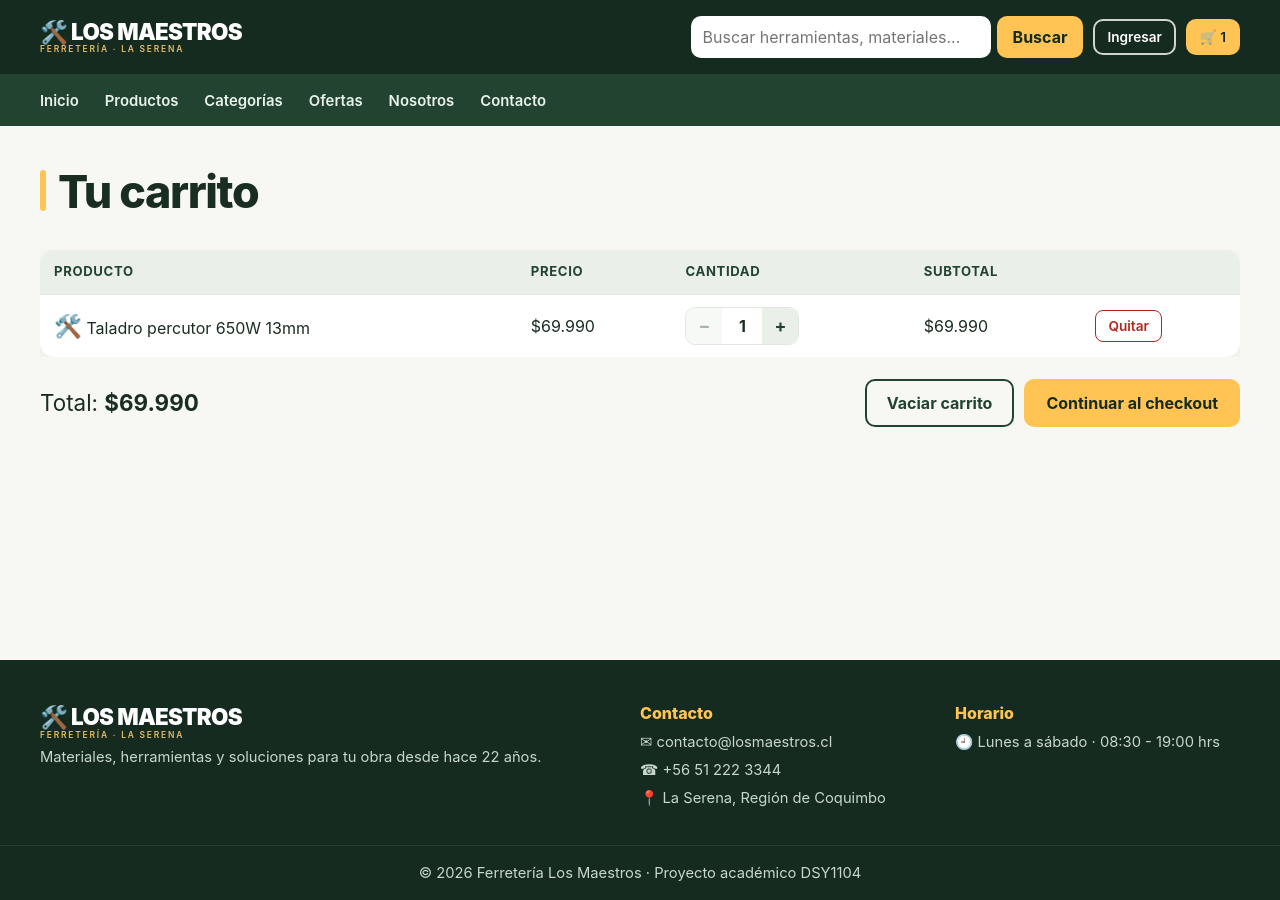
Test: Cuenta del cliente › P26 carrito: cambia cantidades, recalcula el total y queda vacío al quitar
Click the button named "Sumar uno" at point(780, 326), box 762,308 -> 798,344
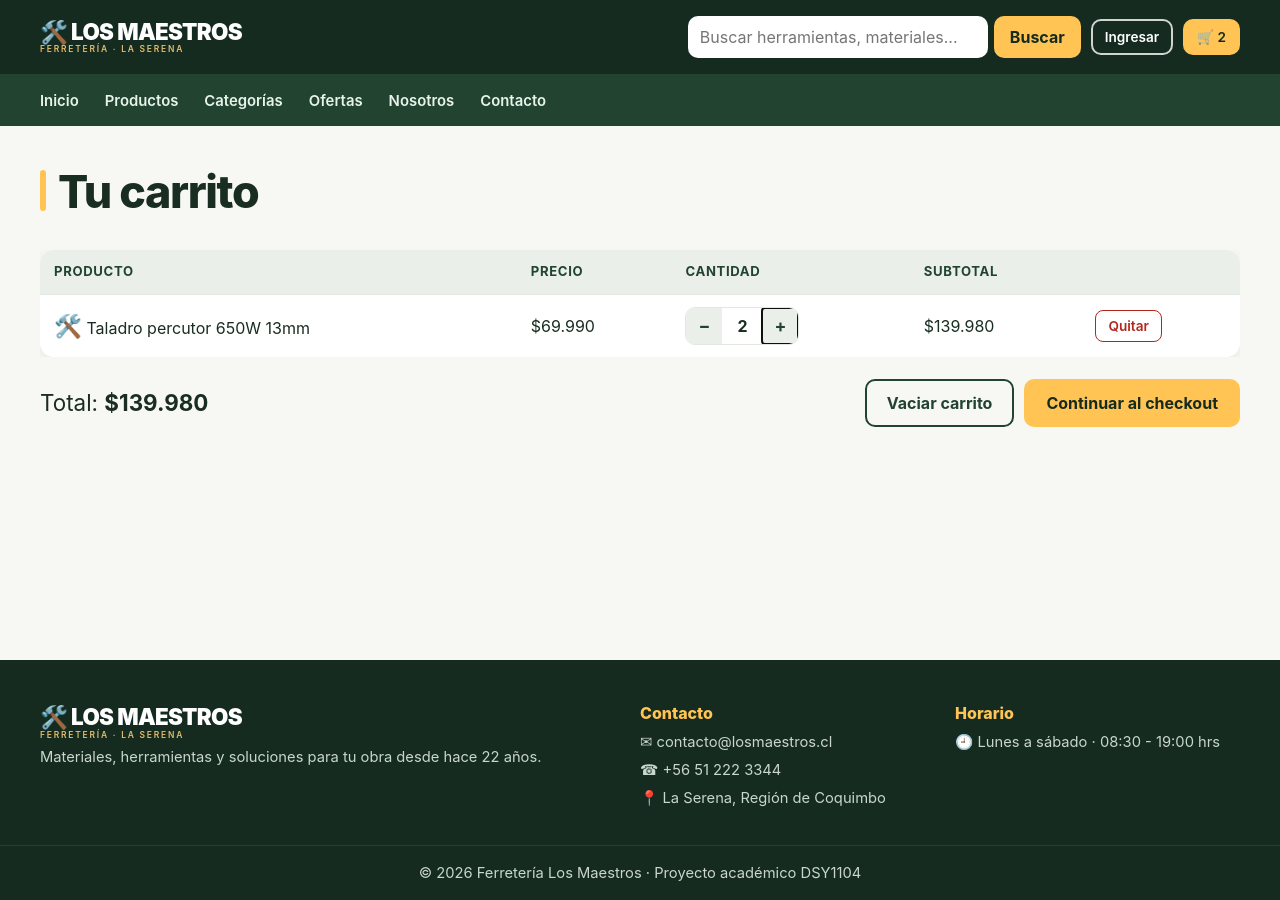
Result: the text "Total: $139.980" is shown at 40,386 -> 208,420
Click the button with aria-label "Quitar Taladro percutor 650W 13mm" at point(1129, 326), box 1095,310 -> 1162,342
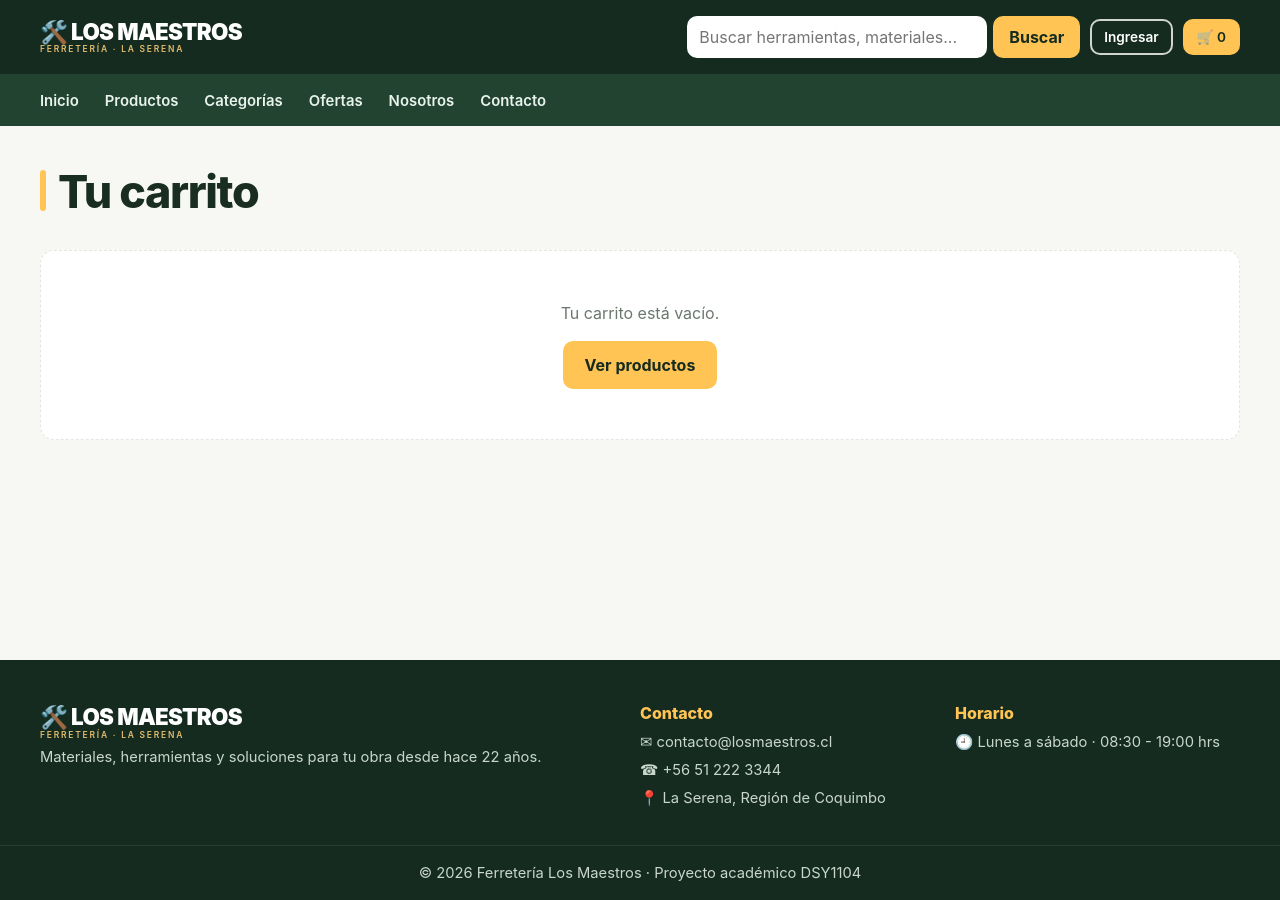
Result: the text "Tu carrito está vacío." is shown at 561,303 -> 719,323
